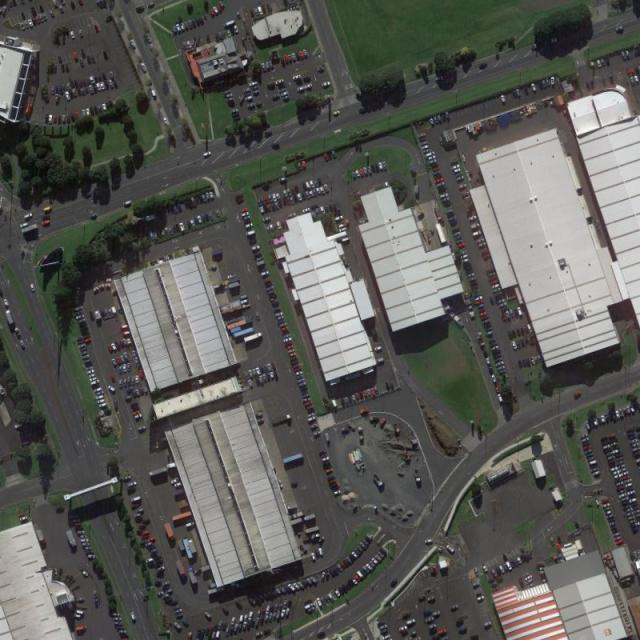vehicle: (273, 414, 291, 425), (4, 310, 15, 327), (296, 579, 307, 595), (390, 574, 401, 589), (302, 579, 314, 592), (453, 616, 467, 627), (486, 328, 497, 342), (317, 628, 329, 640), (263, 59, 272, 75), (246, 378, 255, 394), (418, 591, 429, 604), (201, 148, 214, 159), (221, 605, 232, 618), (255, 362, 265, 376), (162, 115, 171, 130), (271, 586, 280, 601), (366, 163, 375, 178), (203, 610, 214, 622), (246, 595, 258, 606), (42, 203, 54, 214), (495, 562, 505, 575), (138, 62, 148, 75), (260, 590, 270, 603), (324, 593, 334, 606), (310, 574, 320, 587), (36, 11, 45, 25), (430, 564, 439, 578), (447, 603, 461, 612), (186, 16, 195, 30), (526, 322, 535, 336), (516, 356, 525, 370), (266, 588, 275, 602), (14, 326, 23, 340), (332, 147, 341, 161), (318, 570, 327, 584), (323, 151, 332, 165), (372, 161, 381, 175), (490, 566, 501, 577), (222, 86, 233, 97), (572, 388, 583, 399), (454, 171, 466, 181), (494, 290, 506, 300), (130, 37, 138, 52), (99, 101, 109, 113), (618, 406, 626, 421), (288, 582, 298, 594), (335, 562, 345, 574), (351, 549, 361, 561), (358, 542, 368, 554), (355, 569, 365, 581), (292, 581, 302, 593), (30, 15, 39, 28), (481, 561, 490, 574), (458, 190, 471, 199), (279, 585, 288, 598), (189, 196, 198, 209), (327, 590, 336, 603), (590, 78, 598, 92), (530, 82, 538, 96), (150, 89, 158, 103), (298, 50, 306, 64), (302, 48, 310, 62), (508, 306, 516, 320), (510, 340, 518, 354), (182, 618, 190, 632), (19, 339, 27, 353), (354, 386, 361, 402), (363, 385, 370, 401), (383, 378, 391, 392), (504, 559, 514, 570), (402, 612, 413, 622), (233, 600, 244, 610), (371, 555, 381, 566), (429, 626, 438, 638), (197, 14, 206, 26), (104, 98, 113, 110), (56, 53, 65, 65), (626, 434, 638, 443), (81, 569, 90, 581), (93, 589, 99, 607), (173, 620, 182, 632), (115, 340, 124, 352), (326, 478, 338, 487), (333, 586, 342, 598), (331, 566, 340, 578), (323, 182, 332, 194), (291, 51, 298, 66), (585, 418, 592, 433), (339, 393, 346, 408), (350, 389, 357, 404), (374, 382, 381, 397), (22, 17, 30, 30), (69, 29, 77, 42), (517, 577, 525, 590), (632, 549, 640, 562), (469, 222, 482, 230), (506, 328, 514, 341), (511, 326, 519, 339), (130, 610, 138, 623), (118, 353, 126, 366), (266, 361, 274, 374), (134, 357, 142, 370), (138, 369, 146, 382), (321, 595, 329, 608), (362, 165, 370, 178), (382, 159, 390, 172), (212, 623, 218, 640), (525, 572, 535, 582), (400, 628, 410, 638), (461, 194, 471, 204), (492, 284, 502, 294), (429, 158, 439, 168), (147, 0, 157, 10), (254, 594, 264, 604), (378, 547, 388, 557), (516, 554, 525, 565), (455, 175, 466, 184), (471, 229, 482, 238), (482, 251, 491, 262), (495, 296, 506, 305), (211, 4, 220, 15), (606, 458, 617, 467), (90, 378, 101, 387), (122, 199, 133, 208), (75, 311, 86, 320), (322, 461, 333, 470), (340, 559, 349, 570), (338, 584, 347, 595), (240, 209, 251, 218), (600, 56, 607, 70), (513, 305, 520, 319), (94, 21, 101, 35), (249, 8, 256, 22), (604, 410, 611, 424), (591, 416, 598, 430), (310, 550, 317, 564), (26, 17, 34, 29), (48, 8, 56, 20), (482, 619, 494, 627), (426, 596, 438, 604), (590, 59, 598, 71), (466, 214, 478, 222), (438, 191, 450, 199), (191, 16, 199, 28), (90, 54, 98, 66), (103, 80, 111, 92), (274, 78, 286, 86), (266, 2, 274, 14), (257, 6, 265, 18), (614, 408, 622, 420), (598, 438, 610, 446), (519, 322, 527, 334), (524, 354, 530, 370), (262, 374, 270, 386), (14, 422, 26, 430), (121, 338, 129, 350), (86, 211, 98, 219), (2, 298, 10, 310), (214, 206, 222, 218), (196, 213, 204, 225), (178, 221, 186, 233), (285, 583, 293, 595), (344, 391, 350, 407), (344, 582, 352, 594), (345, 555, 353, 567), (350, 170, 358, 182), (370, 559, 378, 571), (278, 175, 290, 183), (262, 193, 270, 205), (308, 177, 316, 189), (303, 178, 311, 190), (59, 4, 66, 17), (1, 4, 8, 17), (472, 564, 479, 577), (628, 64, 635, 77), (596, 58, 603, 71), (523, 85, 530, 98), (433, 115, 440, 128), (73, 49, 80, 62), (86, 54, 93, 67), (109, 78, 116, 91), (262, 2, 269, 15), (214, 29, 221, 42), (518, 305, 525, 318), (622, 405, 629, 418), (496, 391, 503, 404), (538, 352, 545, 365), (259, 374, 266, 387), (254, 376, 261, 389), (31, 280, 38, 293), (255, 307, 262, 320), (380, 414, 387, 427), (315, 597, 322, 610), (354, 168, 361, 181), (277, 218, 284, 231), (313, 188, 320, 201), (309, 189, 316, 202), (289, 194, 296, 207), (285, 196, 292, 209), (501, 562, 510, 572), (509, 556, 518, 566), (471, 579, 481, 588), (417, 130, 427, 139), (445, 206, 454, 216), (447, 211, 457, 220), (135, 4, 145, 13), (248, 79, 258, 88), (473, 293, 483, 302), (583, 444, 593, 453), (598, 433, 608, 442), (603, 446, 613, 455), (483, 317, 492, 327), (485, 323, 494, 333), (621, 496, 630, 506), (625, 503, 634, 513), (137, 424, 147, 433), (173, 481, 183, 490), (95, 394, 105, 403), (333, 489, 343, 498), (287, 346, 297, 355), (290, 352, 300, 361), (294, 372, 303, 382), (284, 335, 294, 344), (354, 546, 363, 556), (361, 538, 370, 548), (475, 595, 486, 603), (437, 628, 448, 636), (377, 620, 388, 628), (406, 618, 417, 626), (398, 624, 409, 632), (460, 256, 471, 264), (95, 81, 103, 92), (254, 7, 262, 18), (316, 65, 327, 73), (579, 436, 590, 444), (475, 298, 486, 306), (254, 630, 265, 638), (98, 402, 109, 410), (130, 348, 138, 359), (130, 389, 138, 400), (330, 483, 341, 491), (318, 450, 329, 458), (274, 190, 282, 201), (19, 20, 26, 32), (633, 44, 639, 58), (628, 77, 635, 89), (609, 71, 616, 83), (474, 236, 486, 243), (506, 308, 512, 322), (436, 113, 443, 125), (43, 114, 50, 126), (175, 22, 182, 34), (246, 102, 258, 109), (280, 56, 286, 70), (530, 354, 537, 366), (267, 371, 274, 383), (124, 350, 131, 362), (271, 359, 278, 371), (67, 513, 79, 520), (134, 506, 146, 513), (22, 439, 34, 446), (107, 342, 114, 354), (194, 194, 201, 206), (190, 216, 196, 230), (89, 310, 96, 322), (270, 202, 277, 214), (259, 205, 266, 217), (358, 167, 365, 179), (270, 302, 282, 309), (278, 198, 285, 210), (317, 175, 324, 187), (296, 192, 303, 204), (428, 622, 437, 631), (480, 246, 489, 255), (622, 474, 631, 483), (627, 488, 636, 497), (145, 555, 154, 564), (134, 413, 143, 422), (107, 382, 116, 391), (84, 336, 93, 345), (83, 329, 92, 338), (291, 358, 300, 367), (313, 430, 322, 439), (362, 565, 371, 574), (69, 1, 77, 11), (457, 626, 467, 634), (422, 610, 432, 618), (432, 610, 442, 618), (450, 162, 460, 170), (463, 265, 473, 273), (440, 195, 450, 203), (90, 106, 98, 116), (292, 74, 302, 82), (476, 302, 486, 310), (478, 309, 488, 317), (492, 350, 502, 358), (493, 355, 503, 363), (618, 492, 628, 500), (620, 470, 630, 478), (625, 485, 635, 493), (629, 494, 637, 504), (83, 546, 93, 554), (155, 557, 165, 565), (186, 630, 194, 640), (92, 384, 102, 392), (96, 398, 106, 406), (325, 474, 335, 482), (310, 421, 318, 431), (284, 342, 294, 350), (359, 385, 364, 401), (349, 552, 357, 562), (354, 574, 362, 584), (42, 10, 48, 23), (556, 541, 562, 554), (620, 49, 626, 62), (605, 54, 611, 67), (586, 81, 592, 94), (70, 112, 76, 125), (101, 67, 107, 80), (88, 84, 94, 97), (270, 59, 276, 72), (288, 53, 294, 66), (601, 412, 607, 425), (596, 414, 602, 427), (74, 626, 87, 632), (369, 384, 375, 397), (378, 159, 384, 172), (623, 64, 630, 75), (497, 302, 508, 309), (97, 104, 104, 115), (179, 21, 186, 32), (99, 80, 106, 91), (279, 90, 290, 97), (331, 110, 342, 117), (626, 404, 633, 415), (586, 454, 597, 461), (589, 458, 600, 465), (590, 464, 601, 471), (629, 442, 640, 449), (75, 609, 86, 616), (318, 546, 325, 557), (314, 549, 321, 560), (132, 496, 143, 503), (199, 629, 206, 640), (111, 342, 118, 353), (111, 358, 118, 369), (115, 356, 122, 367), (19, 222, 30, 229), (175, 202, 182, 213), (200, 193, 207, 204), (299, 383, 310, 390), (350, 578, 357, 589), (320, 186, 327, 197), (282, 187, 289, 198), (545, 38, 560, 43), (114, 398, 119, 413), (50, 1, 58, 10), (466, 270, 475, 278), (468, 274, 477, 282), (516, 87, 522, 99), (420, 139, 429, 147), (422, 146, 431, 154), (450, 219, 459, 227), (218, 1, 227, 9), (81, 46, 87, 58), (65, 90, 71, 102), (260, 62, 266, 74), (284, 56, 290, 68), (579, 430, 588, 438), (582, 440, 591, 448), (586, 450, 595, 458), (516, 338, 522, 350), (520, 336, 526, 348), (69, 518, 81, 524), (274, 370, 280, 382), (79, 346, 88, 354), (94, 390, 103, 398), (208, 210, 214, 222), (204, 213, 210, 225), (80, 326, 88, 335), (294, 366, 302, 375), (302, 393, 311, 401), (302, 400, 314, 406), (305, 404, 317, 410), (365, 562, 374, 570), (446, 545, 455, 553), (234, 192, 243, 200), (325, 570, 331, 582), (248, 610, 254, 622), (265, 204, 271, 216), (246, 230, 258, 236), (316, 185, 322, 197), (304, 190, 310, 202), (321, 203, 327, 215), (341, 236, 353, 242), (425, 616, 435, 623), (476, 242, 486, 249), (487, 270, 497, 277), (425, 150, 435, 157), (244, 95, 254, 102), (206, 34, 213, 44), (322, 82, 332, 89), (490, 345, 500, 352), (495, 380, 500, 394), (600, 501, 610, 508), (624, 425, 634, 432), (255, 418, 265, 425), (170, 478, 180, 485), (209, 626, 214, 640), (222, 618, 227, 632), (131, 407, 141, 414), (134, 387, 141, 397), (86, 368, 96, 375), (87, 374, 97, 381), (74, 335, 84, 342), (24, 212, 34, 219), (41, 220, 51, 227), (296, 378, 306, 385), (306, 415, 316, 422), (282, 333, 292, 340), (236, 198, 246, 205), (246, 221, 256, 228), (278, 318, 288, 325), (378, 626, 389, 632), (458, 249, 469, 255), (452, 168, 463, 174), (458, 183, 469, 189), (487, 276, 498, 282), (489, 281, 500, 287), (184, 20, 190, 31), (109, 98, 115, 109), (78, 28, 84, 39), (70, 79, 76, 90), (72, 88, 78, 99), (631, 402, 637, 413), (234, 25, 240, 36), (167, 600, 178, 606), (175, 614, 186, 620), (262, 363, 268, 374), (127, 481, 138, 487), (243, 612, 249, 623), (254, 619, 260, 630), (260, 618, 266, 629), (265, 604, 271, 615), (269, 222, 275, 233), (274, 311, 285, 317), (313, 175, 319, 186), (316, 206, 322, 217), (334, 216, 345, 222), (512, 89, 517, 102), (445, 109, 450, 122), (430, 117, 435, 130), (534, 352, 539, 365), (249, 367, 254, 380), (11, 1, 19, 9), (462, 261, 470, 269), (438, 186, 446, 194), (208, 7, 216, 15), (616, 538, 624, 546), (632, 500, 640, 508), (78, 321, 86, 329), (322, 454, 330, 462), (303, 206, 311, 214), (478, 62, 487, 69), (427, 155, 436, 162), (432, 170, 441, 177), (434, 175, 443, 182), (252, 89, 261, 96), (609, 430, 618, 437), (609, 435, 618, 442), (497, 366, 506, 373), (612, 470, 621, 477), (608, 519, 617, 526), (613, 529, 622, 536), (614, 535, 623, 542), (616, 486, 625, 493), (631, 526, 640, 533), (130, 402, 139, 409), (377, 553, 386, 560), (281, 325, 290, 332), (243, 214, 252, 221), (430, 634, 440, 640), (550, 534, 555, 546), (634, 75, 640, 85), (626, 47, 631, 59), (550, 75, 555, 87), (501, 94, 506, 106), (62, 114, 66, 129), (57, 114, 61, 129), (110, 68, 115, 80), (56, 93, 61, 105), (280, 97, 290, 103), (225, 92, 235, 98), (231, 107, 241, 113), (592, 471, 602, 477), (602, 444, 612, 450), (489, 366, 494, 378), (630, 521, 640, 527), (80, 542, 90, 548), (76, 598, 86, 604), (156, 566, 166, 572), (76, 529, 86, 535), (126, 362, 131, 374), (245, 367, 250, 379), (122, 476, 132, 482), (185, 522, 197, 527), (195, 630, 201, 640), (218, 619, 223, 631), (82, 359, 92, 365), (127, 374, 132, 386), (306, 410, 316, 416), (374, 346, 384, 352), (302, 158, 307, 170), (284, 608, 290, 618), (242, 622, 247, 634), (261, 605, 266, 617), (280, 609, 286, 619), (246, 240, 258, 245), (257, 194, 262, 206), (266, 288, 278, 293), (274, 201, 280, 211), (287, 213, 297, 219), (338, 227, 348, 233), (422, 143, 430, 150), (453, 225, 461, 232), (616, 450, 624, 457), (606, 514, 614, 521), (614, 476, 622, 483), (626, 509, 633, 517), (157, 590, 164, 598), (163, 593, 171, 600), (78, 341, 86, 348), (42, 215, 50, 222), (78, 317, 86, 324), (379, 631, 390, 636), (602, 76, 607, 87), (458, 253, 469, 258), (546, 78, 551, 89), (542, 80, 547, 91), (114, 79, 119, 90), (74, 78, 79, 89), (56, 83, 61, 94), (61, 83, 66, 94), (230, 112, 241, 117), (72, 614, 83, 619), (253, 367, 258, 378), (119, 377, 124, 388), (173, 204, 178, 215), (205, 191, 210, 202), (229, 626, 234, 637), (238, 623, 243, 634), (247, 622, 252, 633), (246, 235, 257, 240), (270, 191, 275, 202), (336, 222, 347, 227), (286, 186, 291, 197), (537, 563, 546, 569), (469, 634, 478, 640), (419, 136, 428, 142), (278, 87, 287, 93), (226, 96, 235, 102), (264, 130, 273, 136), (294, 79, 303, 85), (480, 315, 489, 321), (162, 581, 171, 587), (254, 412, 263, 418), (216, 631, 222, 640), (57, 508, 66, 514), (82, 354, 91, 360), (301, 390, 310, 396), (325, 468, 334, 474), (261, 216, 270, 222), (261, 270, 270, 276), (264, 284, 273, 290), (76, 110, 80, 123), (1, 286, 5, 299), (210, 190, 214, 203), (234, 623, 238, 636), (382, 635, 392, 640), (614, 26, 624, 31), (86, 76, 91, 86), (486, 357, 491, 367), (87, 554, 97, 559), (115, 624, 125, 629), (121, 364, 126, 374), (146, 537, 156, 542), (19, 517, 29, 522), (283, 598, 288, 608), (273, 613, 278, 623), (266, 224, 271, 234), (619, 462, 626, 469), (629, 514, 636, 521), (125, 396, 132, 403), (20, 1, 26, 9), (458, 242, 466, 248), (454, 238, 462, 244), (453, 234, 461, 240), (82, 109, 86, 121), (66, 114, 70, 126), (49, 114, 53, 126), (80, 75, 84, 87), (78, 87, 82, 99), (242, 87, 250, 93), (297, 86, 305, 92), (305, 84, 313, 90), (305, 76, 313, 82), (613, 445, 621, 451), (604, 506, 612, 512), (606, 511, 614, 517), (632, 453, 640, 459), (616, 482, 624, 488), (346, 634, 354, 640), (114, 616, 122, 622), (117, 630, 129, 634), (86, 364, 94, 370), (278, 602, 284, 610), (635, 547, 640, 556), (436, 182, 445, 187), (86, 110, 91, 119), (172, 25, 177, 34), (606, 454, 615, 459), (494, 361, 503, 366), (610, 465, 619, 470), (625, 481, 634, 486), (174, 609, 183, 614), (424, 539, 433, 544), (274, 602, 279, 611), (270, 298, 279, 303), (438, 636, 449, 640), (94, 84, 98, 95), (51, 85, 55, 96), (232, 118, 243, 122), (250, 86, 261, 90), (206, 626, 210, 637), (257, 609, 261, 620), (266, 615, 270, 626), (255, 258, 266, 262), (267, 294, 278, 298), (329, 202, 333, 213), (618, 455, 624, 462), (95, 1, 103, 6), (470, 281, 478, 286), (453, 230, 461, 235), (431, 165, 439, 170), (90, 74, 94, 84), (83, 76, 87, 86), (82, 88, 86, 98), (610, 525, 618, 530), (626, 431, 634, 436), (80, 538, 90, 542), (74, 526, 84, 530), (231, 616, 235, 626), (270, 614, 274, 624), (256, 262, 266, 266), (264, 278, 274, 282), (225, 627, 228, 640), (278, 85, 287, 89), (634, 457, 640, 463), (631, 450, 640, 454), (634, 506, 640, 512), (634, 422, 640, 428), (119, 635, 128, 639), (136, 375, 140, 384), (270, 605, 274, 614), (251, 246, 260, 250), (286, 1, 293, 6), (264, 629, 271, 634), (637, 60, 640, 71), (124, 376, 127, 387), (258, 268, 269, 271), (78, 1, 86, 5), (142, 530, 150, 534), (239, 614, 243, 622), (277, 316, 285, 320), (62, 1, 68, 6), (132, 376, 135, 386), (170, 225, 173, 235), (277, 612, 280, 622), (252, 253, 262, 256), (612, 442, 619, 446), (112, 614, 121, 617), (282, 1, 287, 6), (30, 1, 35, 5), (635, 462, 640, 466), (292, 1, 298, 4), (637, 513, 640, 518), (637, 433, 640, 438), (638, 466, 640, 471), (334, 638, 339, 640), (638, 470, 640, 474), (639, 474, 640, 478)
